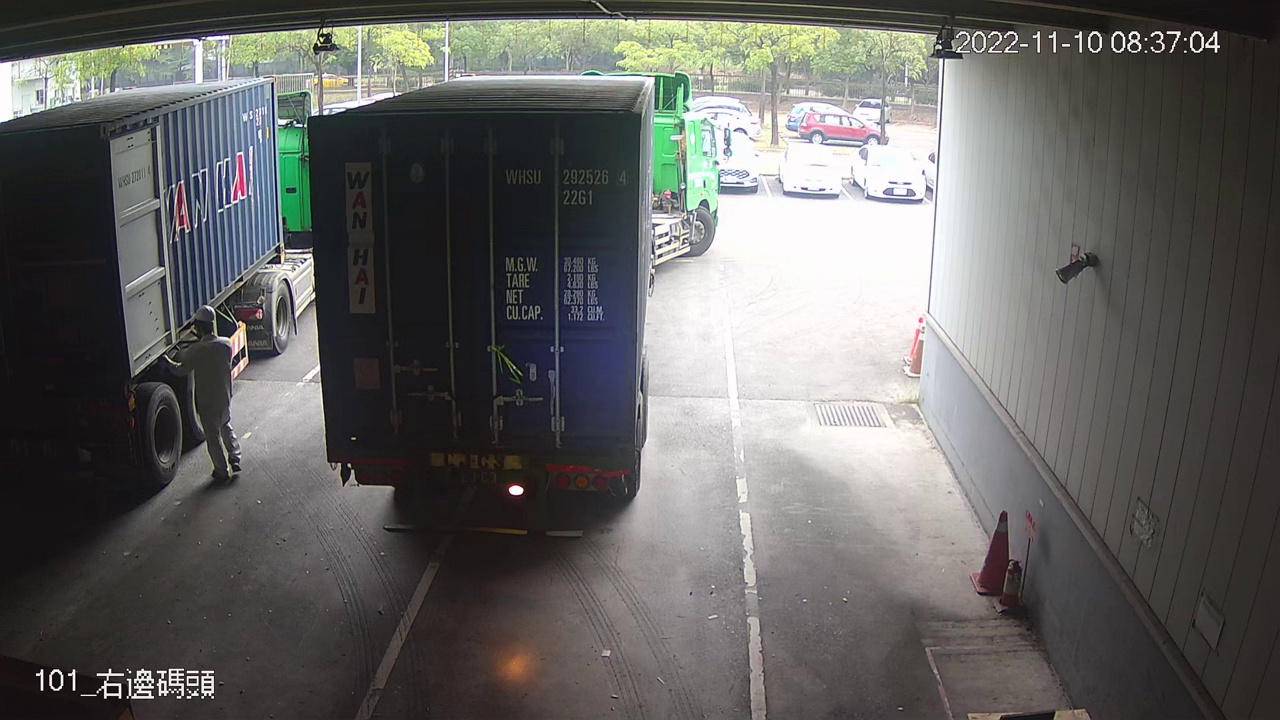container: (500, 163, 631, 209)
